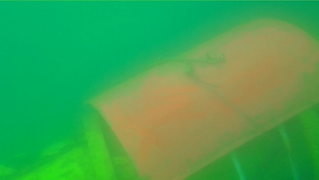leak: (86, 16, 319, 180)
pipe: (184, 102, 319, 179), (1, 114, 139, 180)
